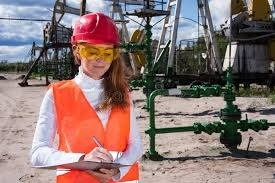helmet: (70, 12, 123, 46)
person with full safety: (30, 11, 141, 181)
safety vest: (48, 79, 135, 178)
